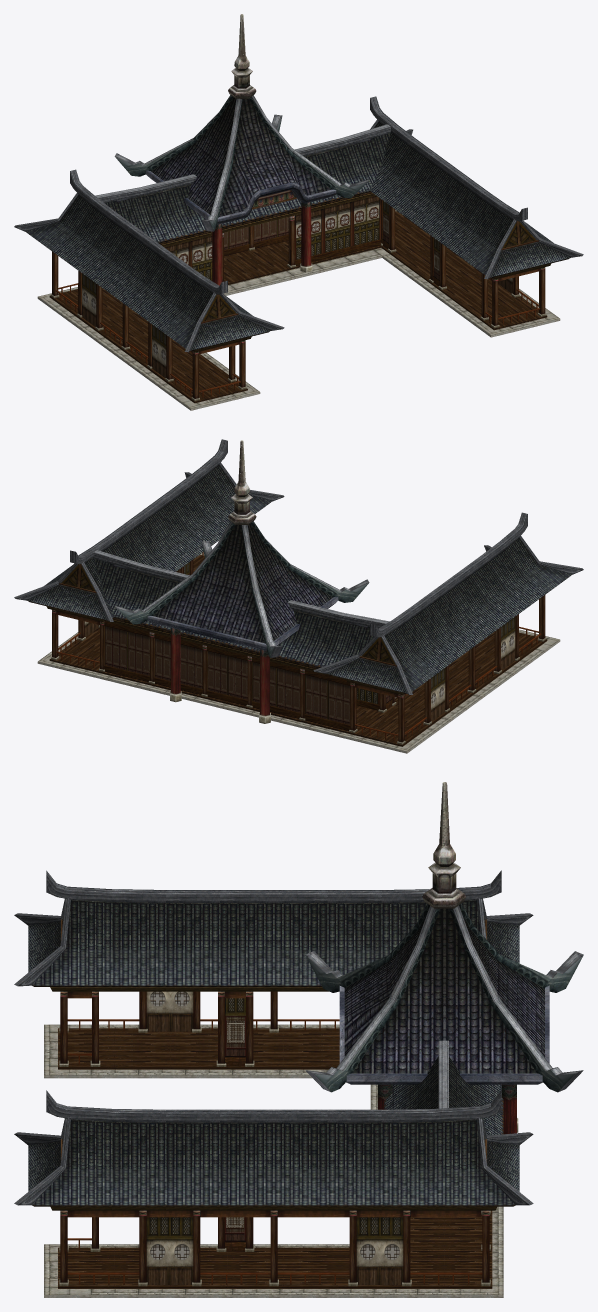
Rendered from milgyo_building04.glb.
3 renders of one model, top to bottom at view 1: azimuth 30°, elevation 25°; view 2: azimuth 150°, elevation 25°; view 3: azimuth 270°, elevation 25°, orthographic. The views are drawn at different scales.
Parts seen in each view (by area): view 1: milgyo_building04; view 2: milgyo_building04; view 3: milgyo_building04.
Part boxes in pixels (x1,y1,x2,y2): milgyo_building04: (14,14,583,410); milgyo_building04: (14,439,583,753); milgyo_building04: (14,782,583,1297).
Size of the model in its own units: 69.19 by 41.96 by 57.02.
Materials: 3 (3 with a texture image).
